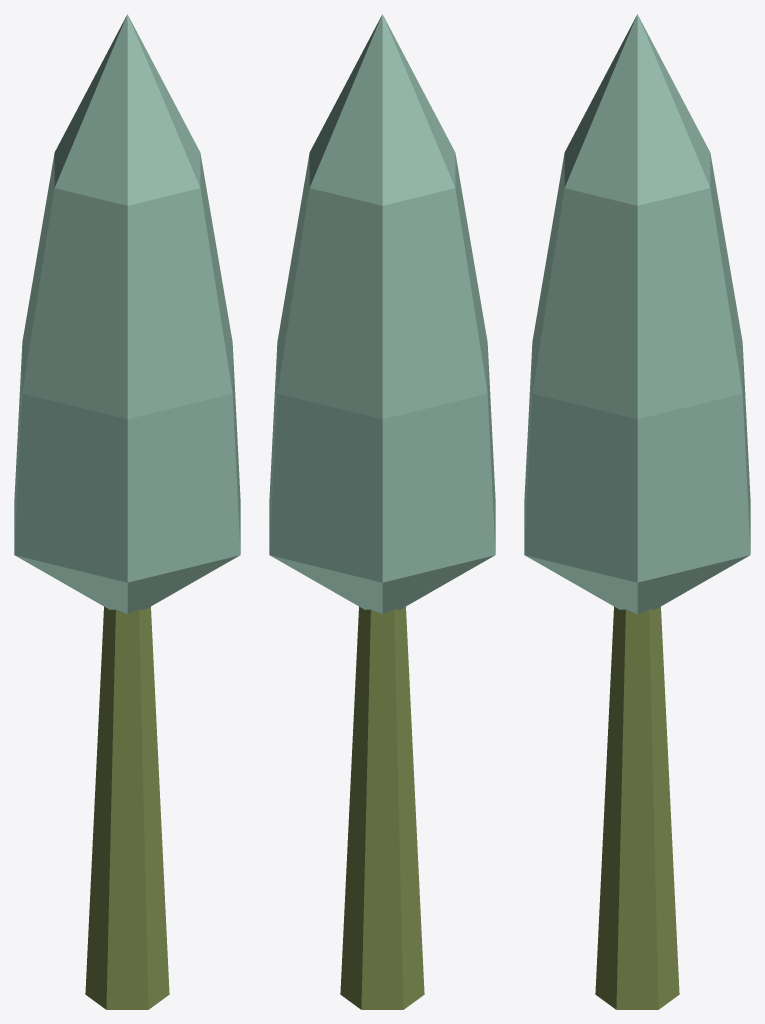
Rendered from Low_Poly_Tree_Grave3.fbx.
3 renders of one model, left to right at view 1: azimuth 30°, elevation 25°; view 2: azimuth 150°, elevation 25°; view 3: azimuth 270°, elevation 25°, orthographic.
Parts seen in each view (by area): view 1: Low_Poly_Tree_004; view 2: Low_Poly_Tree_004; view 3: Low_Poly_Tree_004.
Part boxes in pixels (x1=…): Low_Poly_Tree_004: x1=14, y1=14, x2=240, y2=1009; Low_Poly_Tree_004: x1=269, y1=14, x2=495, y2=1009; Low_Poly_Tree_004: x1=524, y1=14, x2=750, y2=1009.
Size of the model in its own units: 213 by 882 by 184.
